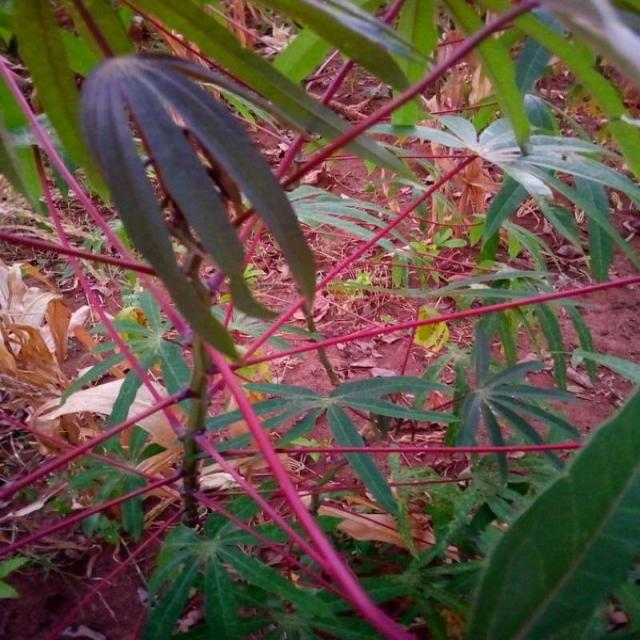cassava leaf: (1, 1, 638, 638), (79, 49, 317, 364), (463, 382, 639, 638)
